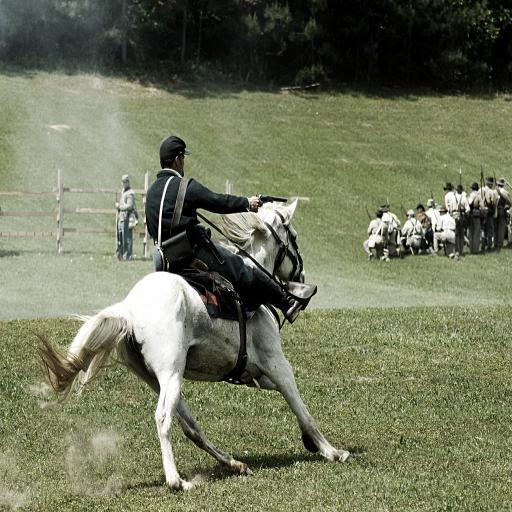Horse: (22, 180, 350, 491)
